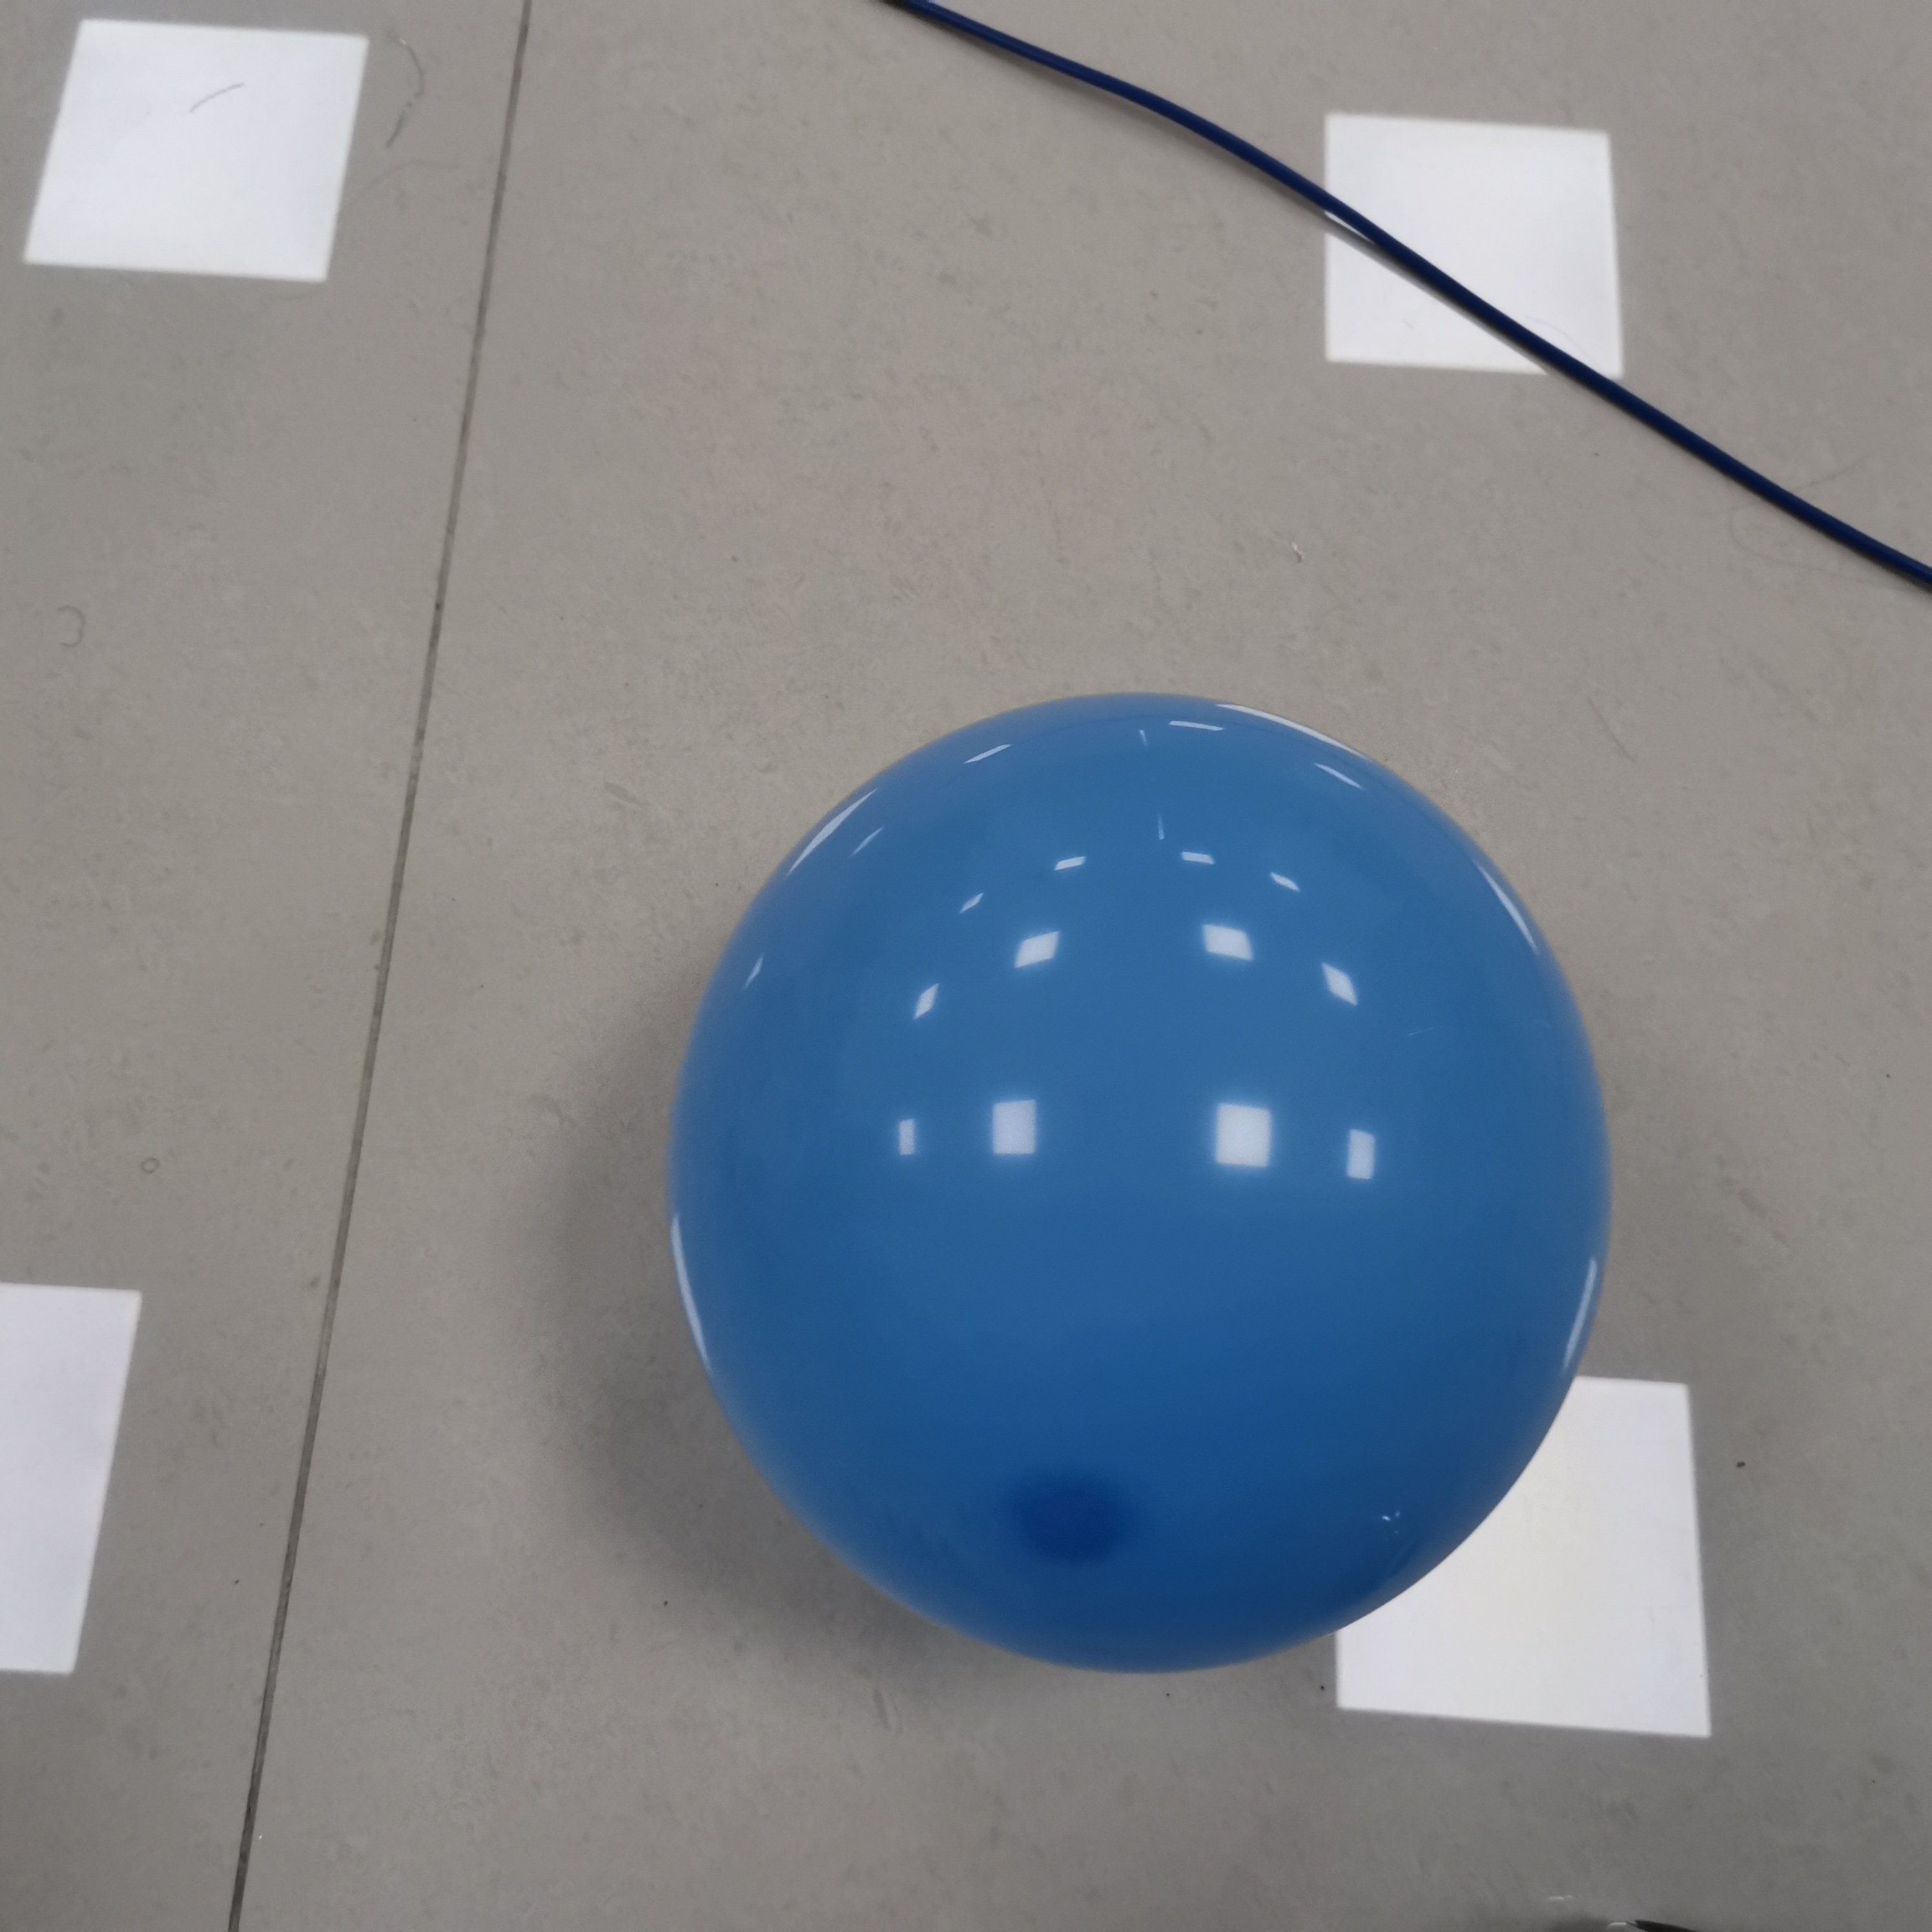balloon: (671, 686, 1617, 1675)
